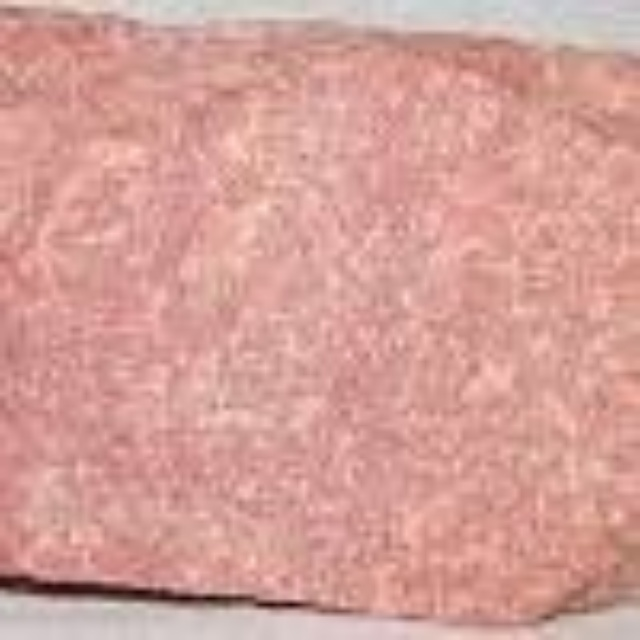obstacle: (0, 6, 634, 608)
